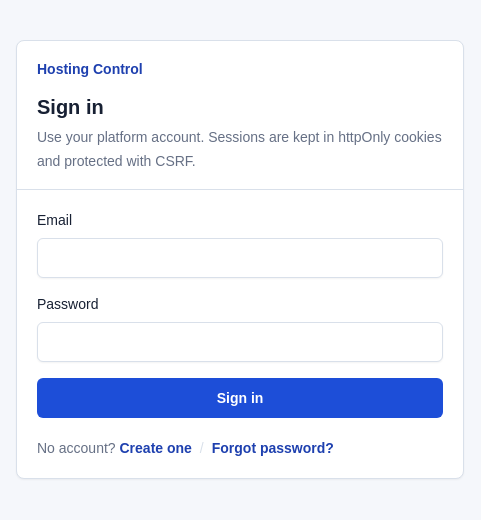
Test: LoginPage › validates fields before submitting
Step 1. Click the button "Sign in" → (240, 398), box [37,378,443,418]
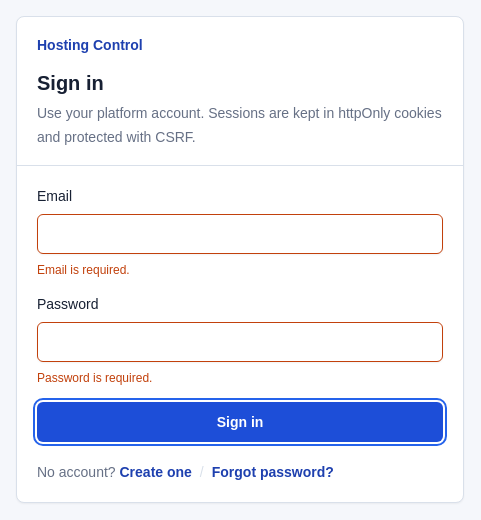
Expected: the text "Email is required." is shown, [37,262,130,276]
Expected: the text "Password is required." is shown, [37,370,152,384]
